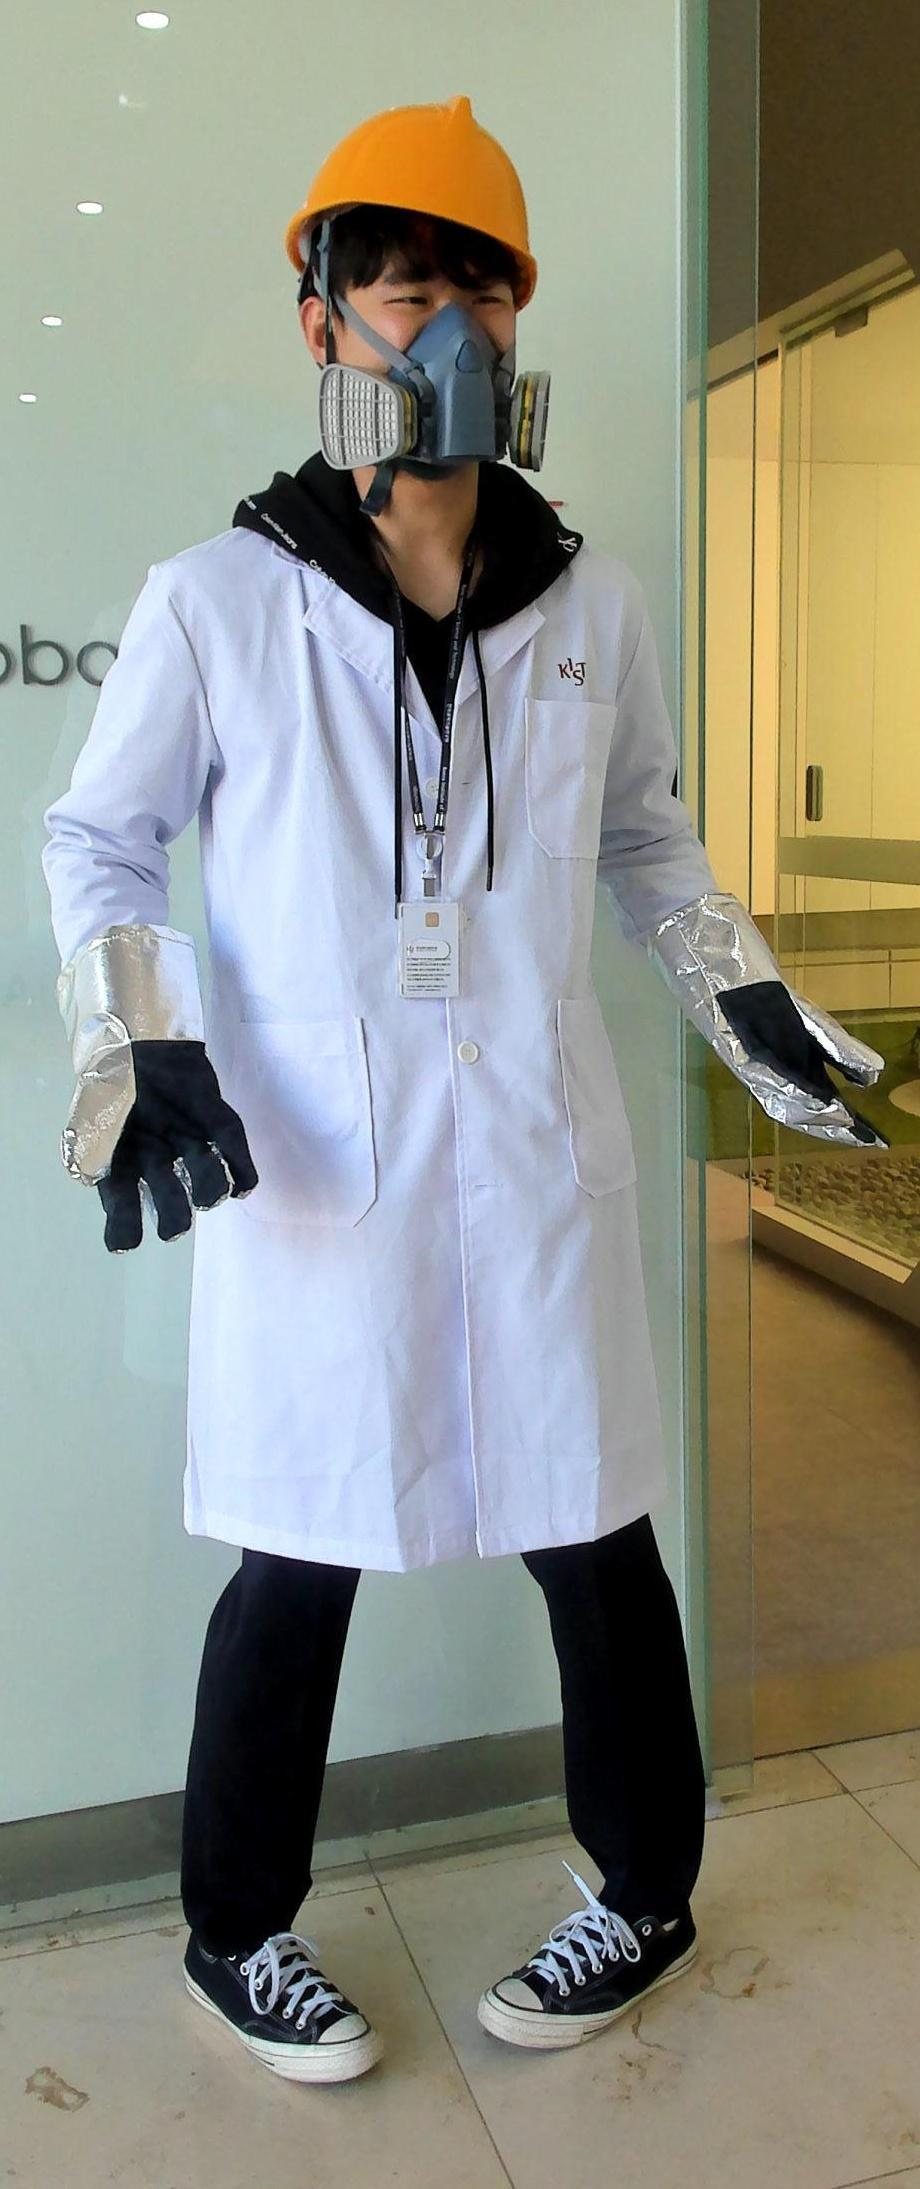lab_coat: (194, 542, 660, 1547)
